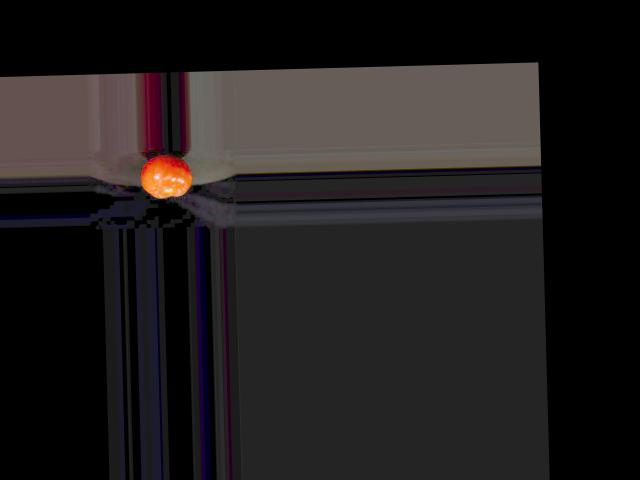tomato: (139, 153, 192, 199)
